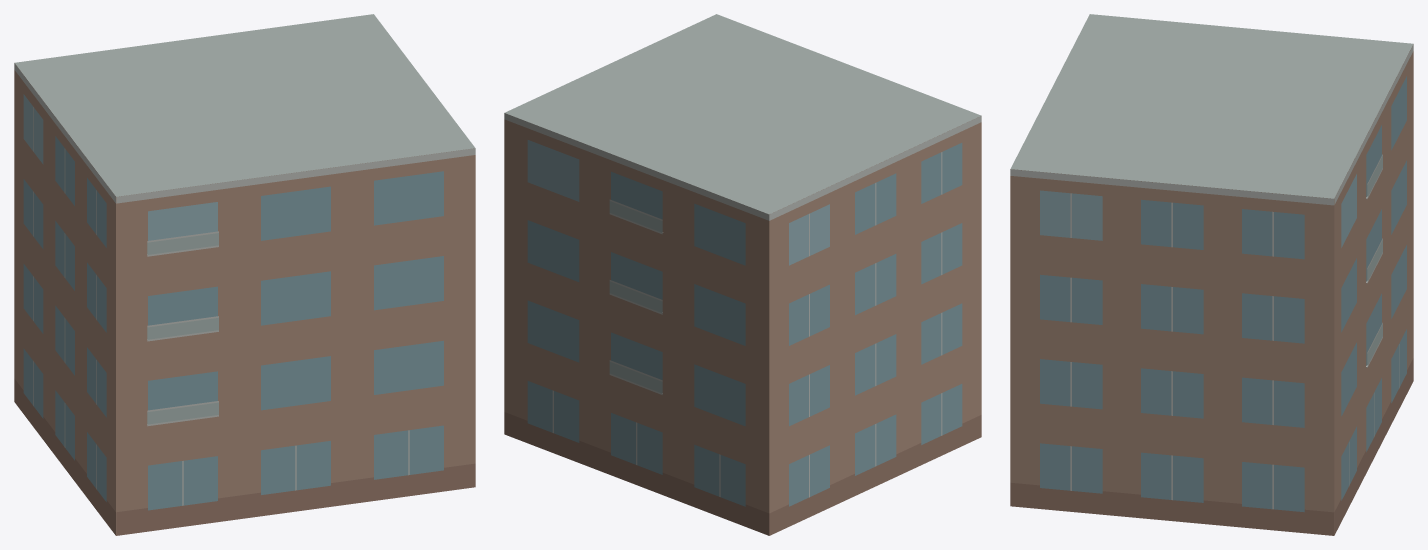
Rendered from residential-377adca2-babd-4772-9d50-8e6ee4e330e9.glb.
3 renders of one model, left to right at view 1: azimuth 30°, elevation 25°; view 2: azimuth 150°, elevation 25°; view 3: azimuth 270°, elevation 25°, orthographic. The views are drawn at different scales.
Visible parts, largest first — view 1: residential-377adca2-babd-4772-9d50-8e6ee4e330e9.tmp; view 2: residential-377adca2-babd-4772-9d50-8e6ee4e330e9.tmp; view 3: residential-377adca2-babd-4772-9d50-8e6ee4e330e9.tmp.
Part boxes in pixels (left/top/right/bottom): residential-377adca2-babd-4772-9d50-8e6ee4e330e9.tmp: left=14, top=14, right=475, bottom=535; residential-377adca2-babd-4772-9d50-8e6ee4e330e9.tmp: left=504, top=14, right=981, bottom=535; residential-377adca2-babd-4772-9d50-8e6ee4e330e9.tmp: left=1010, top=14, right=1413, bottom=535.
Size of the model in its own units: 14.34 by 12.2 by 13.24.
